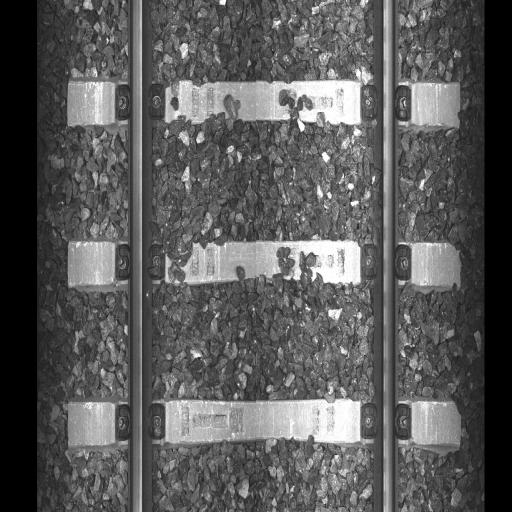sleeper: (66, 236, 460, 301), (66, 78, 460, 139), (65, 399, 460, 456)
